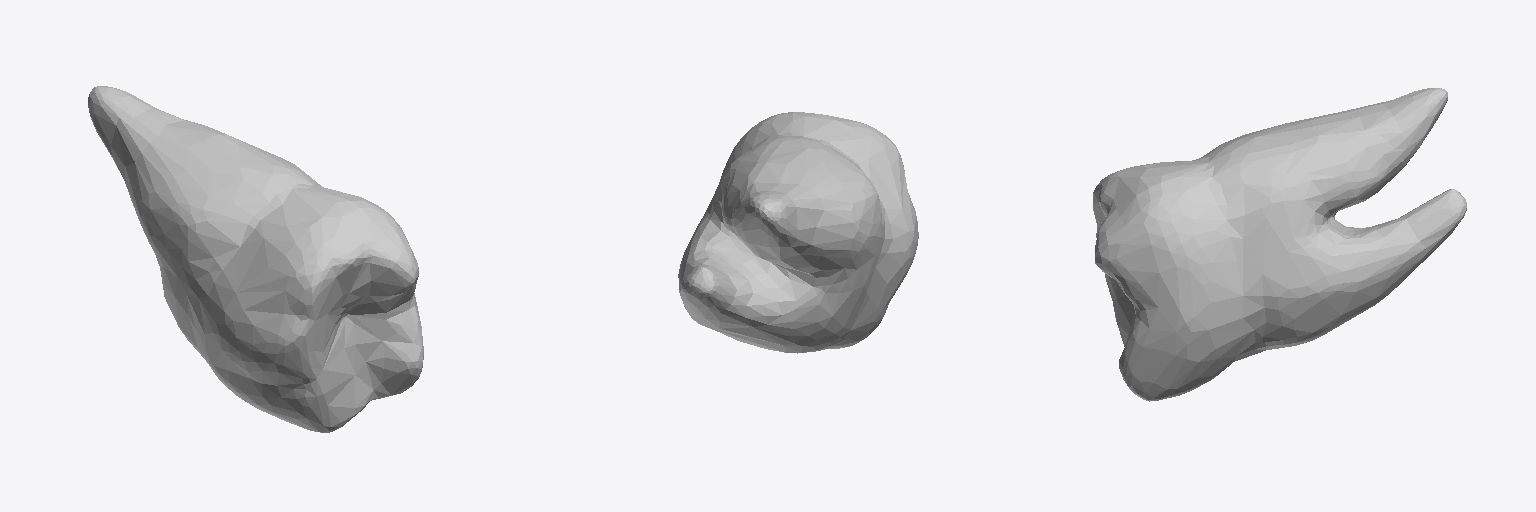
The model's file is tooth_14.obj.
The picture shows the model from 3 angles: view 1: azimuth 30°, elevation 25°; view 2: azimuth 150°, elevation 25°; view 3: azimuth 270°, elevation 25°; orthographic projection.
Visible parts, largest first — view 1: grp1; view 2: grp1; view 3: grp1.
Part boxes in pixels (bbox=[...]): grp1: bbox=[88, 86, 423, 432]; grp1: bbox=[678, 112, 918, 353]; grp1: bbox=[1093, 88, 1466, 401].
Bounding box in the file's own units: 12.32 × 15.11 × 19.72.